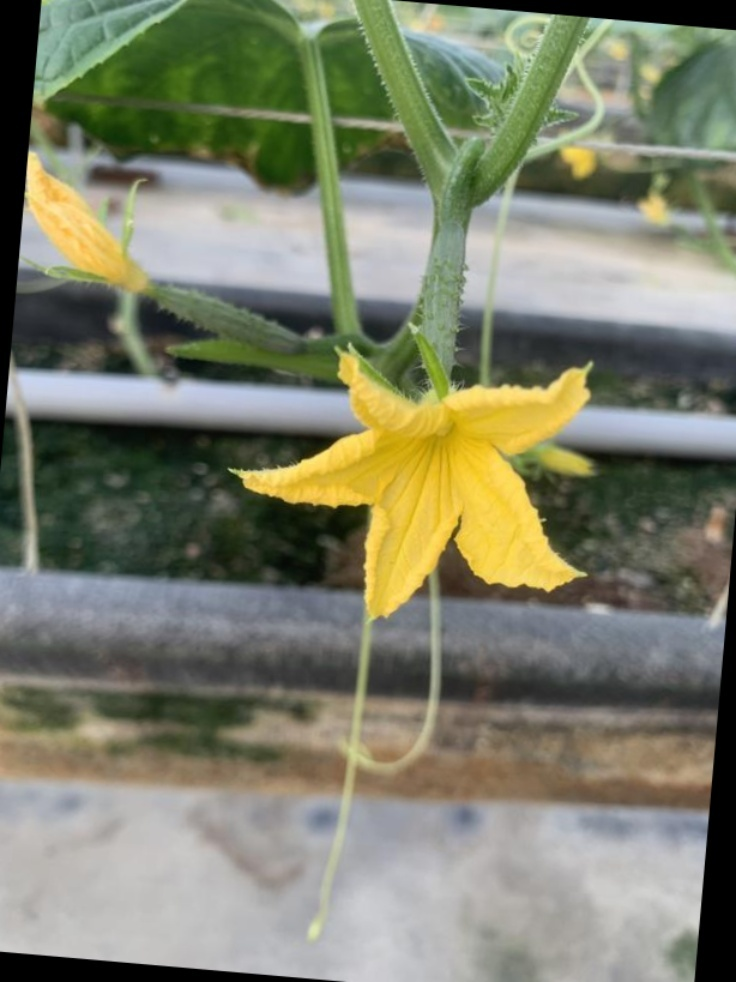bear: (29, 171, 313, 354)
flowering: (238, 256, 609, 649)
